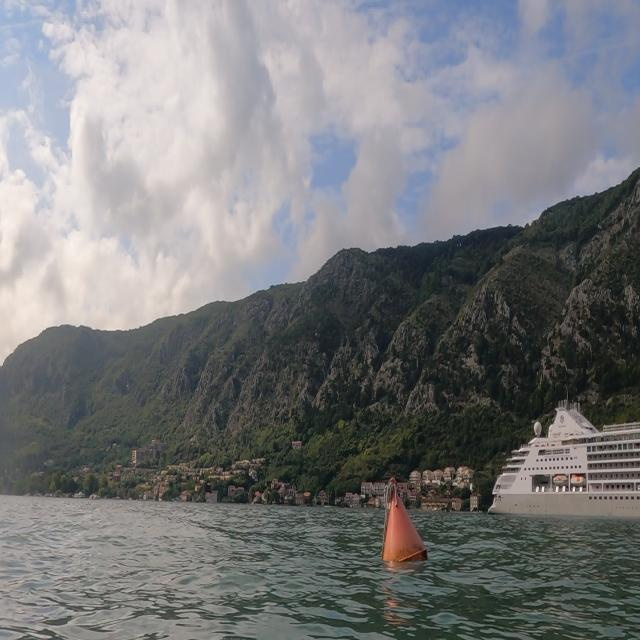boat: (483, 391, 640, 527)
buoy: (372, 466, 436, 572)
